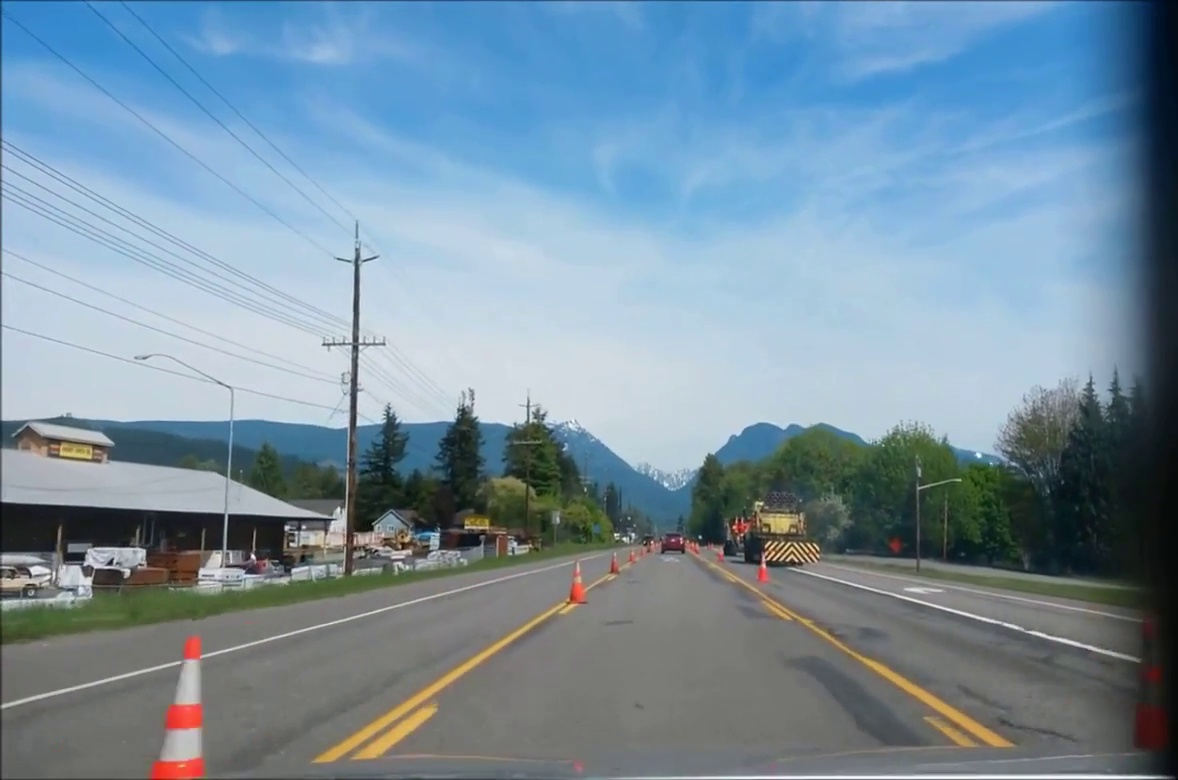Cone: (150, 631, 244, 777), (569, 557, 593, 603)
